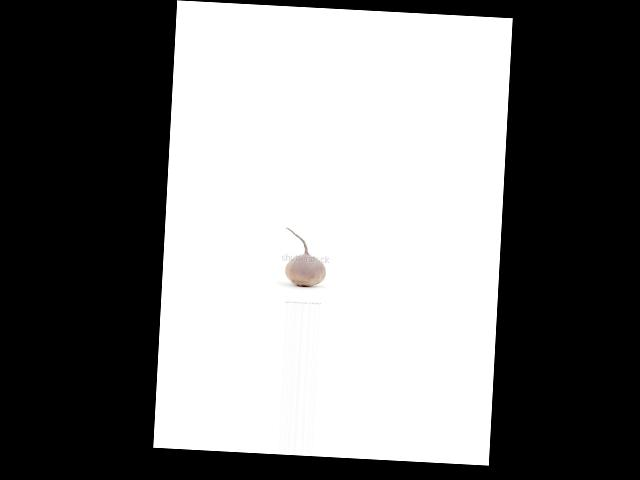beet: (283, 227, 329, 288)
